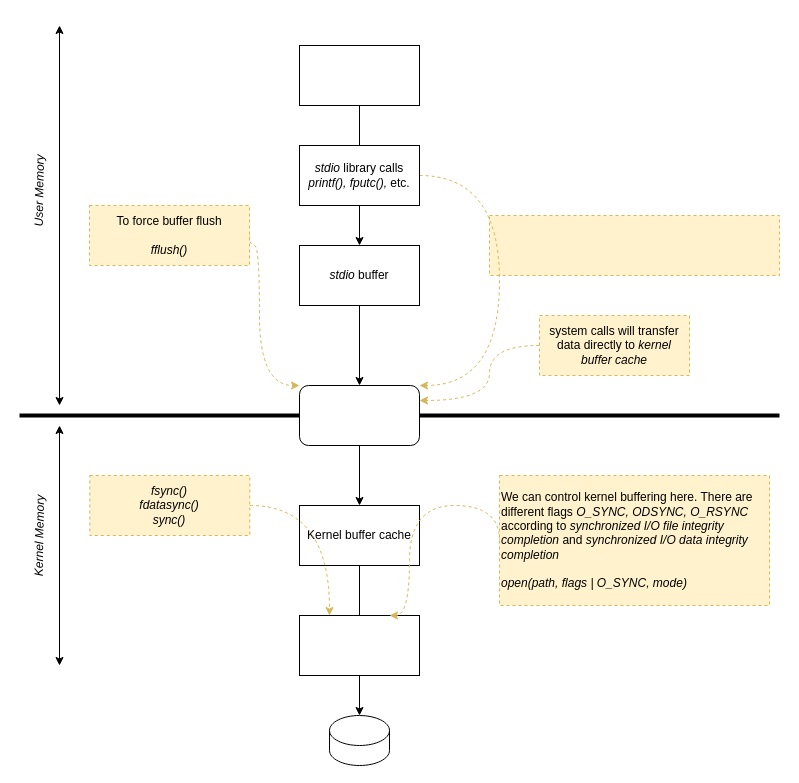
The diagram is 799 pixels wide and 783 high, and some of its shapes have lost their labels. The shapes that lost their labels are listed below. From the top down, each one's centre as x and y in pixels, then its label:
point 359,75: User data
point 634,245: Make flushing automatic on each I/O call setbuf(stream, NULL)
point 359,415: I/O system calls write() , etc.
point 359,645: Kernel-initiated write
